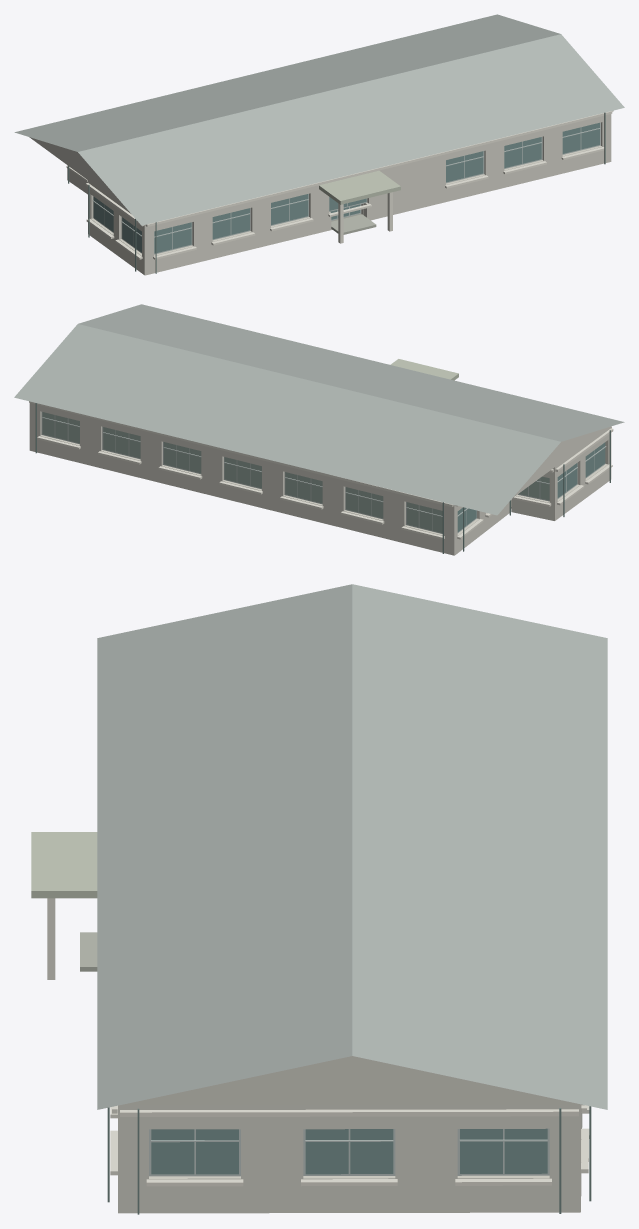
3 views of the same model, one above another, from view 1: azimuth 30°, elevation 25°; view 2: azimuth 150°, elevation 25°; view 3: azimuth 270°, elevation 25° (orthographic). The views are drawn at different scales.
Visible parts, largest first — view 1: westhall__greyroof, westhall__wall, westhall__glass, westhall__trim, westhall__entry, westhall__frame, westhall__threshold-0-19, westhall__metal; view 2: westhall__greyroof, westhall__wall, westhall__sideglass, westhall__trim, westhall__frame, westhall__glass, westhall__entry, westhall__metal; view 3: westhall__greyroof, westhall__wall, westhall__glass, westhall__trim, westhall__entry, westhall__frame, westhall__metal.
Part boxes in pixels (left/top/right/bottom): westhall__greyroof: left=14, top=14, right=624, bottom=225; westhall__wall: left=29, top=114, right=611, bottom=275; westhall__glass: left=93, top=122, right=599, bottom=253; westhall__trim: left=66, top=110, right=613, bottom=259; westhall__entry: left=319, top=170, right=400, bottom=204; westhall__frame: left=93, top=122, right=600, bottom=254; westhall__threshold-0-19: left=331, top=214, right=376, bottom=234; westhall__metal: left=68, top=112, right=605, bottom=273; westhall__greyroof: left=14, top=304, right=624, bottom=515; westhall__wall: left=29, top=403, right=611, bottom=555; westhall__sideglass: left=42, top=412, right=549, bottom=532; westhall__trim: left=29, top=401, right=613, bottom=539; westhall__frame: left=41, top=412, right=606, bottom=533; westhall__glass: left=457, top=442, right=605, bottom=531; westhall__entry: left=390, top=359, right=458, bottom=380; westhall__metal: left=35, top=403, right=610, bottom=553; westhall__greyroof: left=97, top=584, right=607, bottom=1109; westhall__wall: left=118, top=1056, right=584, bottom=1213; westhall__glass: left=151, top=1128, right=547, bottom=1174; westhall__trim: left=47, top=898, right=589, bottom=1186; westhall__entry: left=31, top=832, right=97, bottom=898; westhall__frame: left=149, top=1128, right=549, bottom=1176; westhall__metal: left=107, top=1106, right=591, bottom=1214.
Size of the model in its own units: 35.23 by 5.76 by 18.18.
